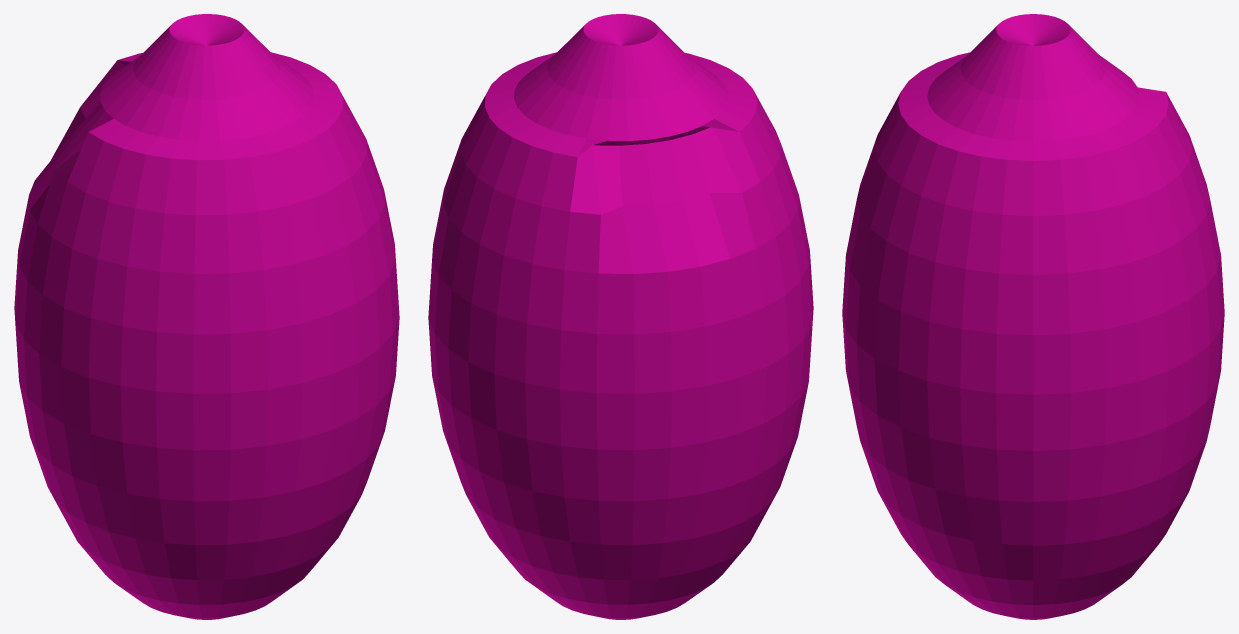
File: Enemy.obj
3 renders of one model, left to right at view 1: azimuth 30°, elevation 25°; view 2: azimuth 150°, elevation 25°; view 3: azimuth 270°, elevation 25°, orthographic.
Parts seen in each view (by area): view 1: Sphere; view 2: Sphere; view 3: Sphere.
Boxes of the visible parts, x1,y1,x2,y2 form: Sphere: (14,14,399,619); Sphere: (428,14,813,619); Sphere: (842,14,1224,619).
Bounding box in the file's own units: 2.41 × 3.99 × 2.39.
